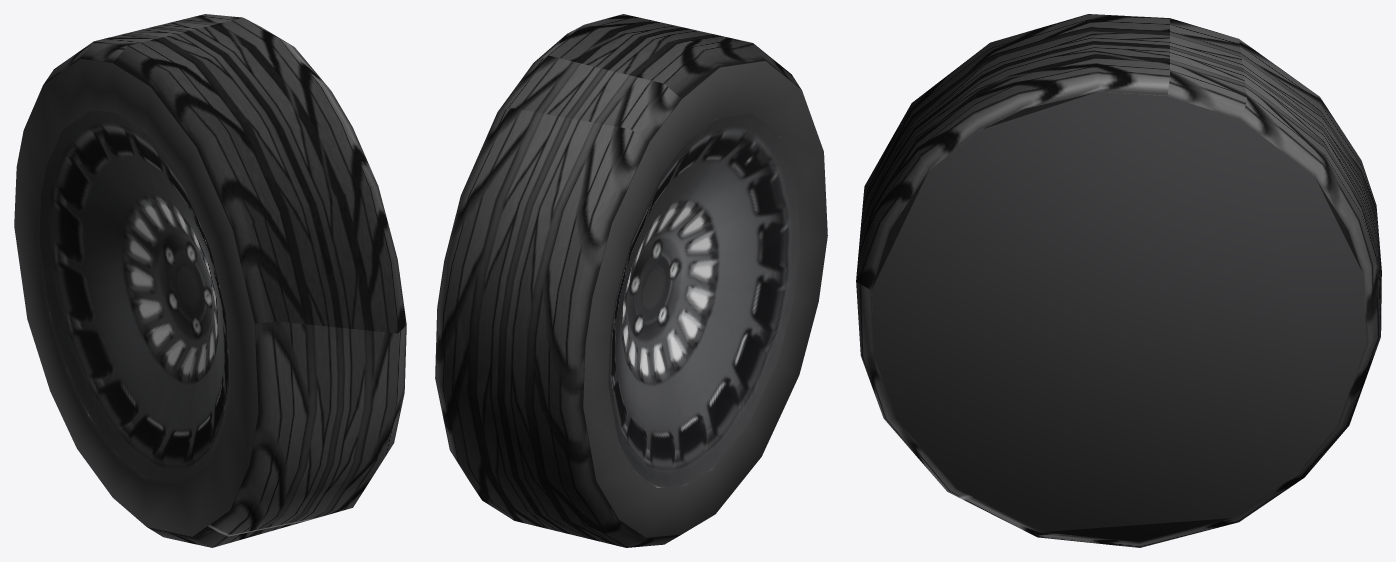
File: wheel1.fbx
3 views of the same model, side by side, from view 1: azimuth 30°, elevation 25°; view 2: azimuth 150°, elevation 25°; view 3: azimuth 270°, elevation 25° (orthographic).
Visible parts, largest first — view 1: Cylinder; view 2: Cylinder; view 3: Cylinder.
Boxes of the visible parts, x1=… form: Cylinder: x1=14, y1=14, x2=406, y2=547; Cylinder: x1=435, y1=14, x2=827, y2=547; Cylinder: x1=856, y1=14, x2=1381, y2=547.
Size of the model in its own units: 70 by 212 by 212.
Materials: 1 (1 with a texture image).
